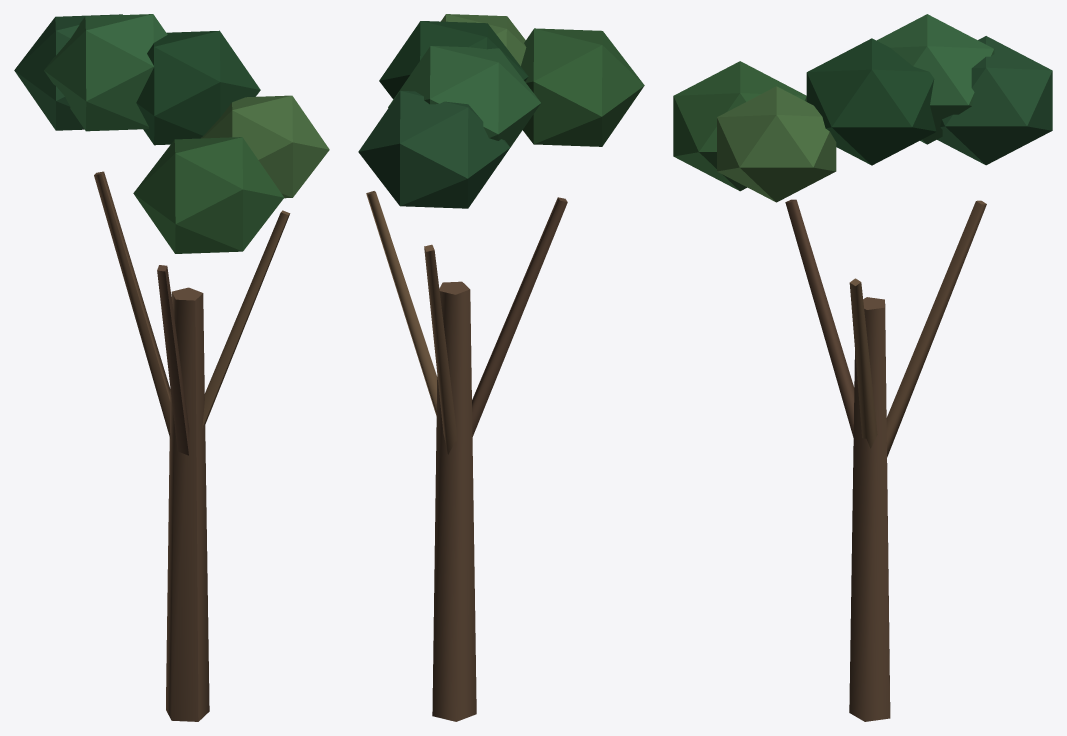
File: broadleaf-oval.far.glb
3 renders of one model, left to right at view 1: azimuth 30°, elevation 25°; view 2: azimuth 150°, elevation 25°; view 3: azimuth 270°, elevation 25°, orthographic. The views are drawn at different scales.
Visible parts, largest first — view 1: foliage, wood; view 2: foliage, wood; view 3: foliage, wood.
Boxes of the visible parts, box(x1,y1,x2,y2) form: foliage: box(14, 14, 329, 253); wood: box(94, 171, 290, 721); foliage: box(358, 14, 644, 208); wood: box(366, 191, 567, 721); foliage: box(673, 14, 1052, 202); wood: box(785, 199, 986, 721).
Size of the model in its own units: 3.6 by 12 by 6.21.
